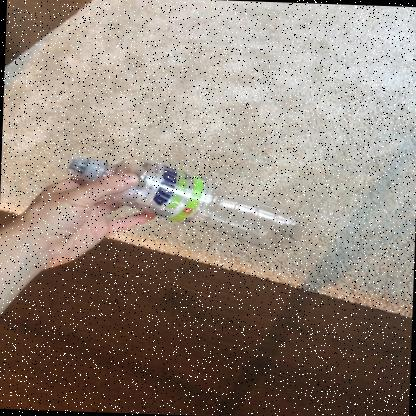Clear plastic bottle: (66, 156, 305, 251)
